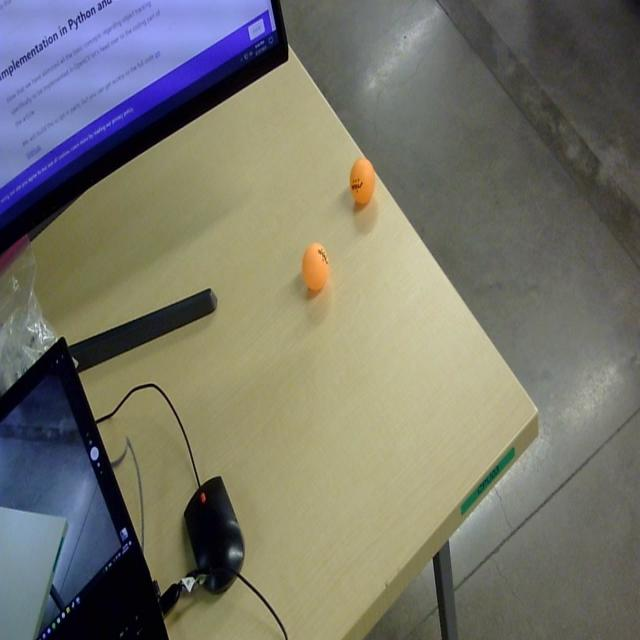ball: (301, 241, 331, 294), (348, 155, 375, 211)
